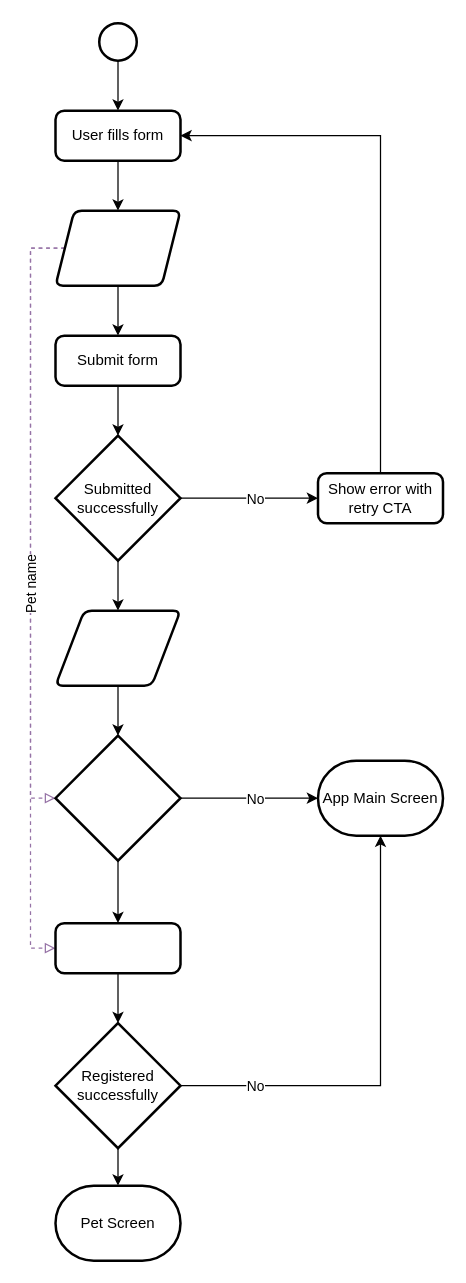
Some shapes in this 466 by 1283 pixel diagram are drawn without their labels. The shapes that lost their labels are listed below. From the top down, each one's centre as x and y in pixels, then its label:
At (117,247): "email, password, (maybe) pet name".
At (117,647): "User ID".
At (117,797): "Has pet name?".
At (117,947): "Register pet".
